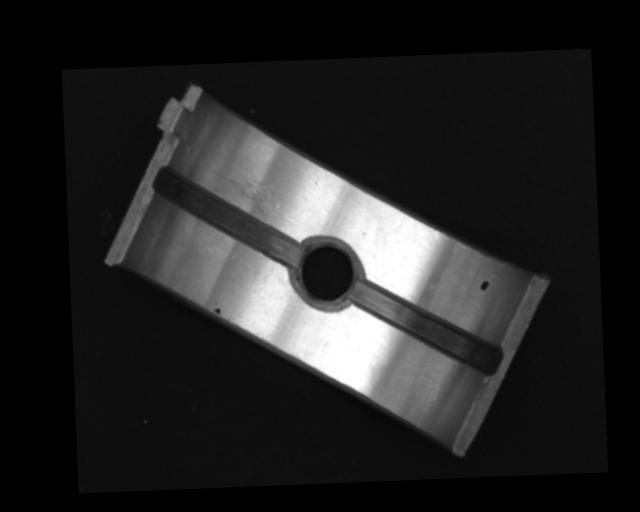blot: (479, 279, 490, 292), (212, 307, 222, 315)
gap: (152, 162, 301, 275), (352, 276, 498, 379)
hole: (293, 237, 361, 311)
scratch: (208, 165, 279, 228)
